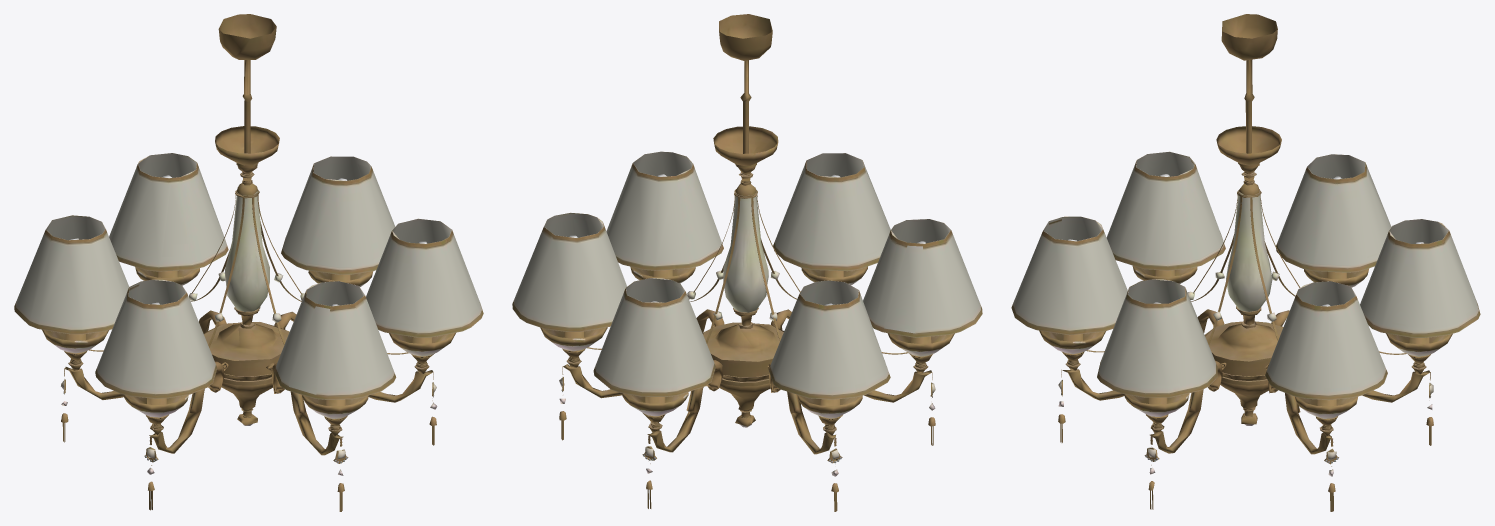
Rendered from chandelier_01.glb.
The picture shows the model from 3 angles, left to right: view 1: azimuth 30°, elevation 25°; view 2: azimuth 150°, elevation 25°; view 3: azimuth 270°, elevation 25°; orthographic projection.
Parts seen in each view (by area): view 1: Chandelier_01; view 2: Chandelier_01; view 3: Chandelier_01.
Part boxes in pixels (left/top/right/bottom): Chandelier_01: left=14, top=14, right=483, bottom=511; Chandelier_01: left=512, top=14, right=982, bottom=511; Chandelier_01: left=1011, top=14, right=1480, bottom=511.
Size of the model in its own units: 0.7465 by 0.7982 by 0.8155.
2 materials, 1 textured.
